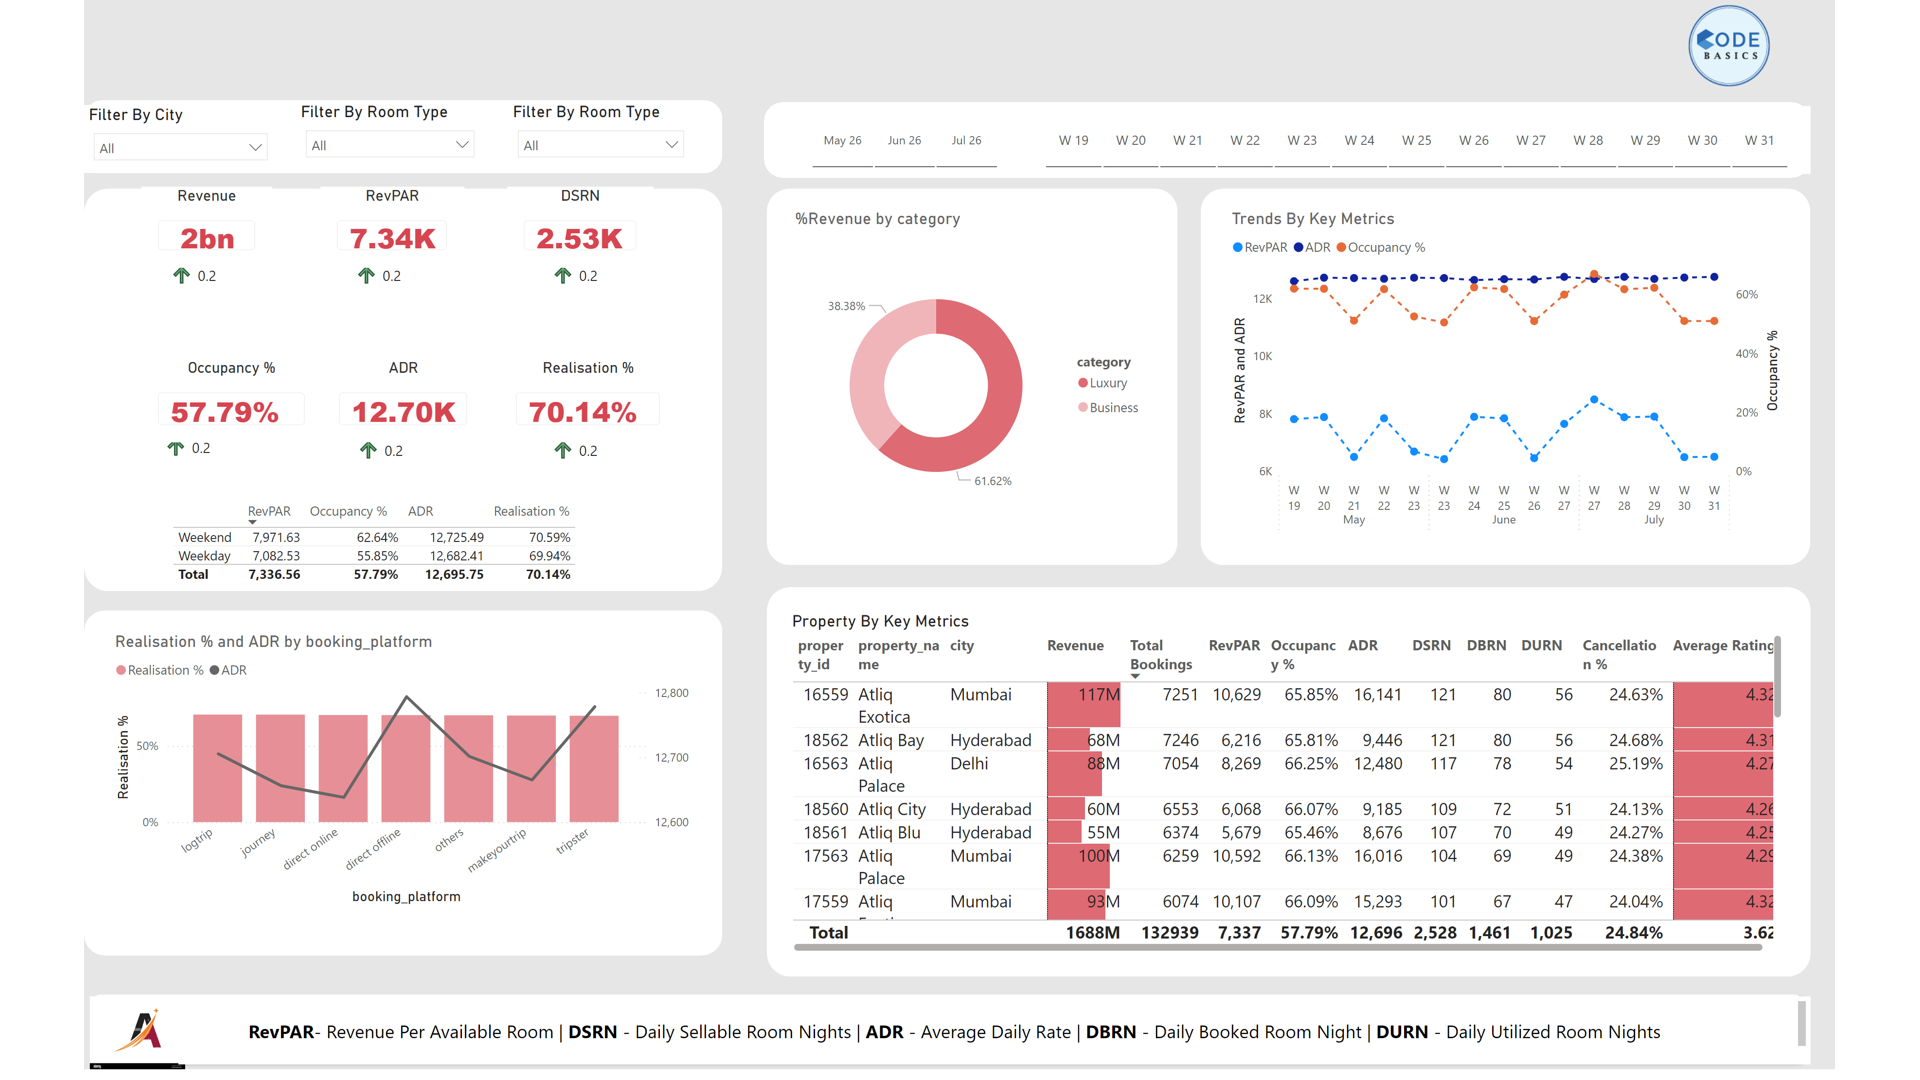

What the dashboard file says about the page in this screenshot:
{"tool":"powerbi","page":{"name":"Page 1","canvas":[1800,1100],"ordinal":0},"visuals":[{"type":"shape","box":[0,1013.8,1774.9,86.1],"z":0},{"type":"shape","box":[0,193.6,656.2,414.1],"z":1000},{"type":"shape","box":[701.9,604.2,1073,400.7],"z":2000},{"type":"shape","box":[0,628.4,656.2,355],"z":3000},{"type":"shape","box":[1148.3,193.6,626.6,387.3],"z":4000},{"type":"shape","box":[701.9,193.6,422.2,387.3],"z":5000},{"type":"shape","box":[158.7,1024.6,376.5,69.9],"z":6000},{"type":"shape","box":[699.2,104.9,1075.7,78],"z":7000},{"type":"shape","box":[0,103.1,656.2,75.3],"z":8000},{"type":"tableEx","title":"Property By Key Metrics","fields":{"Values":["dim_hotels.property_id","dim_hotels.property_name","dim_hotels.city","key_measures.Revenue","key_measures.Total Bookings","key_measures.RevPAR","key_measures.Occupancy %","key_measures.ADR","key_measures.DSRN","key_measures.DBRN","key_measures.DURN","key_measures.Cancellation %"]},"box":[723.4,629.3,1027.3,355],"z":9000},{"type":"slicer","title":"Filter By City","fields":{"Values":["dim_hotels.city"]},"box":[0,107.6,199,69.9],"z":10000},{"type":"slicer","title":"Filter By Room Type","fields":{"Values":["dim_rooms.room_class"]},"box":[217.8,104.9,193.6,69.9],"z":11000},{"type":"slicer","fields":{"Values":["dim_date.mmm yy"]},"box":[723.4,108.9,239.3,69.9],"z":12000},{"type":"slicer","fields":{"Values":["dim_date.week no"]},"box":[962.7,108.9,812.2,69.9],"z":13000},{"type":"donutChart","title":"%Revenue by category","fields":{"Category":["dim_hotels.category"],"Y":["key_measures.Revenue"]},"box":[726.1,215.1,373.8,344.2],"z":14000},{"type":"lineChart","title":"Trends By Key Metrics","fields":{"Category":["dim_date.mmm yy.Variation.Date Hierarchy.Month","dim_date.week no"],"Y":["key_measures.RevPAR","key_measures.ADR"],"Y2":["key_measures.Occupancy %"]},"box":[1175.2,215.1,572.8,341.5],"z":15000},{"type":"lineClusteredColumnComboChart","fields":{"Category":["fact_bookings.booking_platform"],"Y":["key_measures.Realisation %"],"Y2":["key_measures.ADR"]},"box":[26.9,649.9,599.7,285.1],"z":16000},{"type":"tableEx","fields":{"Values":["dim_date.day_type","key_measures.RevPAR","key_measures.Occupancy %","key_measures.ADR","key_measures.Realisation %"]},"box":[86.1,511,446.4,96.8],"z":17000},{"type":"tableEx","fields":{"Values":["key_measures.Revenue WoW change %"]},"box":[73.5,415.1,104.9,91.4],"z":18000},{"type":"cardVisual","title":"Occupancy %","fields":{"Data":["key_measures.Occupancy %"]},"box":[59.2,369.3,185.6,86.1],"z":19000},{"type":"tableEx","fields":{"Values":["key_measures.Revenue WoW change %"]},"box":[80.2,238.1,91.4,75.3],"z":20000},{"type":"cardVisual","title":"Revenue","fields":{"Data":["key_measures.Revenue"]},"box":[58.7,192.5,134.5,83.4],"z":21000},{"type":"tableEx","fields":{"Values":["key_measures.Revenue WoW change %"]},"box":[471.8,417.8,94.1,86.1],"z":22000},{"type":"cardVisual","title":"Realisation %","fields":{"Data":["key_measures.Realisation %"]},"box":[427.4,369.3,182.9,86.1],"z":23000},{"type":"tableEx","fields":{"Values":["key_measures.Revenue WoW change %"]},"box":[271.6,417.8,91.4,86.1],"z":24000},{"type":"cardVisual","title":"ADR","fields":{"Data":["key_measures.ADR"]},"box":[244.7,369.3,166.7,86.1],"z":25000},{"type":"tableEx","fields":{"Values":["key_measures.Revenue WoW change %"]},"box":[270.3,238.1,94.1,75.3],"z":26000},{"type":"cardVisual","title":"RevPAR","fields":{"Data":["key_measures.RevPAR"]},"box":[243.4,192.5,147.9,83.4],"z":27000},{"type":"tableEx","fields":{"Values":["key_measures.Revenue WoW change %"]},"box":[471.8,238.1,94.1,75.3],"z":28000},{"type":"cardVisual","title":"DSRN","fields":{"Data":["key_measures.DSRN"]},"box":[435.4,192.5,150.6,83.4],"z":29000},{"type":"image","box":[0,1024.6,110.3,75.3],"z":30000},{"type":"image","box":[1608.2,0,166.7,94.1],"z":31000},{"type":"textbox","box":[96.8,1024.6,1678.1,69.9],"z":32000},{"type":"slicer","title":"Filter By Room Type","fields":{"Values":["dim_rooms.room_class"]},"box":[435.7,104.9,190.9,69.9],"z":33000}]}

Visuals, with their boxes on the page's 1800x1100 design canvas (x1, y1, x2, y2). These are canvas units, not pixel positions in the 1920x1080 screenshot, which may show the page scaled, cropped or inside an application window:
shape: (x1=0, y1=1014, x2=1775, y2=1100)
shape: (x1=0, y1=194, x2=656, y2=608)
shape: (x1=702, y1=604, x2=1775, y2=1005)
shape: (x1=0, y1=628, x2=656, y2=983)
shape: (x1=1148, y1=194, x2=1775, y2=581)
shape: (x1=702, y1=194, x2=1124, y2=581)
shape: (x1=159, y1=1025, x2=535, y2=1094)
shape: (x1=699, y1=105, x2=1775, y2=183)
shape: (x1=0, y1=103, x2=656, y2=178)
"Property By Key Metrics" tableEx: (x1=723, y1=629, x2=1751, y2=984)
"Filter By City" slicer: (x1=0, y1=108, x2=199, y2=178)
"Filter By Room Type" slicer: (x1=218, y1=105, x2=411, y2=175)
slicer - dim_date.mmm yy: (x1=723, y1=109, x2=963, y2=179)
slicer - dim_date.week no: (x1=963, y1=109, x2=1775, y2=179)
"%Revenue by category" donutChart: (x1=726, y1=215, x2=1100, y2=559)
"Trends By Key Metrics" lineChart: (x1=1175, y1=215, x2=1748, y2=557)
lineClusteredColumnComboChart - fact_bookings.booking_platform x key_measures.Realisation %: (x1=27, y1=650, x2=627, y2=935)
tableEx - dim_date.day_type x key_measures.RevPAR: (x1=86, y1=511, x2=532, y2=608)
tableEx - key_measures.Revenue WoW change %: (x1=74, y1=415, x2=178, y2=506)
"Occupancy %" cardVisual: (x1=59, y1=369, x2=245, y2=455)
tableEx - key_measures.Revenue WoW change %: (x1=80, y1=238, x2=172, y2=313)
"Revenue" cardVisual: (x1=59, y1=192, x2=193, y2=276)
tableEx - key_measures.Revenue WoW change %: (x1=472, y1=418, x2=566, y2=504)
"Realisation %" cardVisual: (x1=427, y1=369, x2=610, y2=455)
tableEx - key_measures.Revenue WoW change %: (x1=272, y1=418, x2=363, y2=504)
"ADR" cardVisual: (x1=245, y1=369, x2=411, y2=455)
tableEx - key_measures.Revenue WoW change %: (x1=270, y1=238, x2=364, y2=313)
"RevPAR" cardVisual: (x1=243, y1=192, x2=391, y2=276)
tableEx - key_measures.Revenue WoW change %: (x1=472, y1=238, x2=566, y2=313)
"DSRN" cardVisual: (x1=435, y1=192, x2=586, y2=276)
image: (x1=0, y1=1025, x2=110, y2=1100)
image: (x1=1608, y1=0, x2=1775, y2=94)
textbox: (x1=97, y1=1025, x2=1775, y2=1094)
"Filter By Room Type" slicer: (x1=436, y1=105, x2=627, y2=175)
